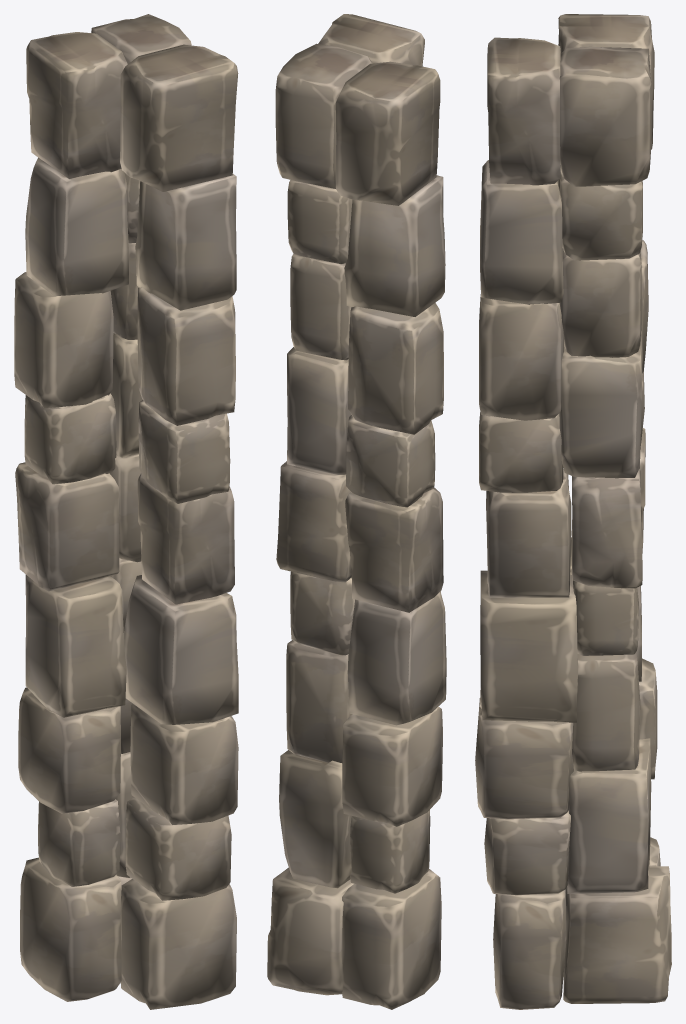
File: Corner_Exterior_Brick.gltf
The picture shows the model from 3 angles, left to right: view 1: azimuth 30°, elevation 25°; view 2: azimuth 150°, elevation 25°; view 3: azimuth 270°, elevation 25°; orthographic projection. The views are drawn at different scales.
Parts seen in each view (by area): view 1: Corner_Exterior_Brick; view 2: Corner_Exterior_Brick; view 3: Corner_Exterior_Brick.
Boxes of the visible parts, x1=… form: Corner_Exterior_Brick: x1=14, y1=14, x2=238, y2=1009; Corner_Exterior_Brick: x1=267, y1=14, x2=446, y2=1009; Corner_Exterior_Brick: x1=475, y1=14, x2=671, y2=1009.
Size of the model in its own units: 0.5307 by 3.02 by 0.5758.
1 material, 1 textured.
